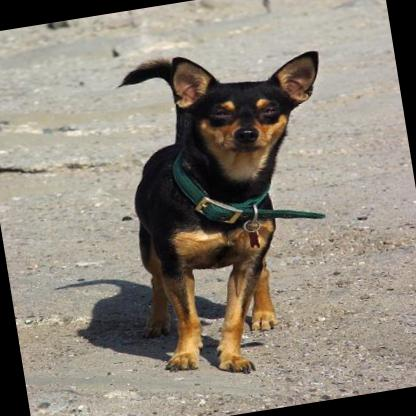miniature_pinscher: (103, 28, 365, 387)
